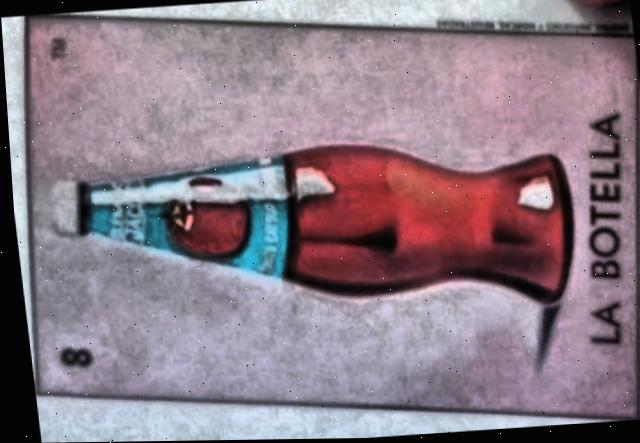La Botella: (23, 15, 636, 420)
